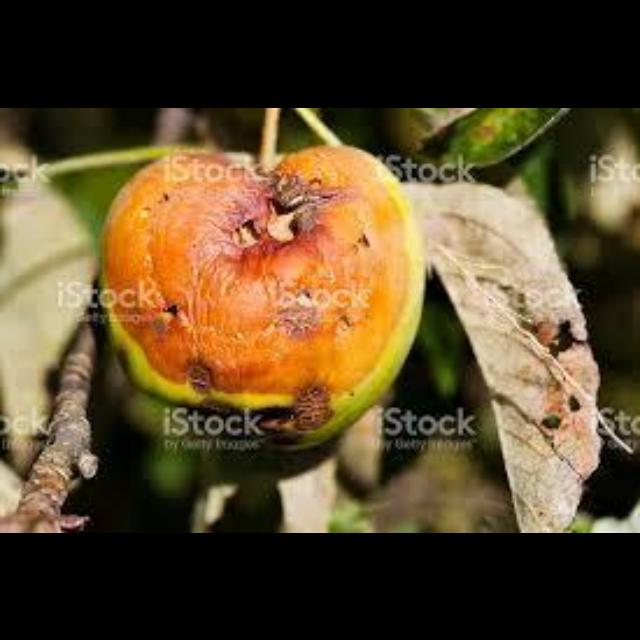pest: (297, 385, 334, 430), (190, 362, 214, 396)
rotten: (98, 144, 424, 449), (104, 148, 411, 401)
